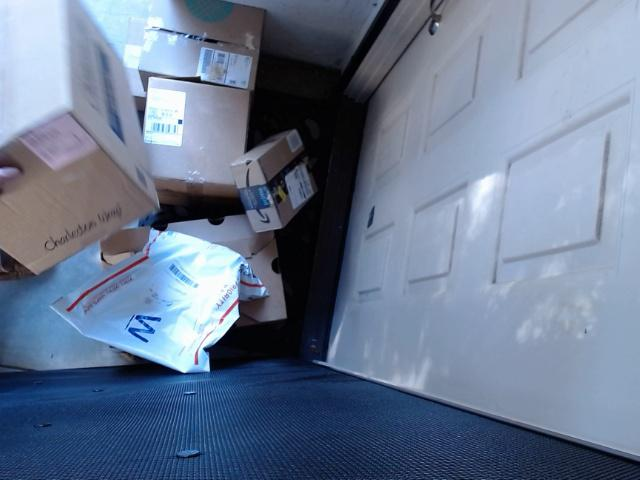box: (0, 0, 163, 275), (162, 203, 291, 337), (139, 70, 249, 208), (138, 0, 280, 86), (237, 124, 333, 237)
plastic_bag: (50, 223, 267, 363)
